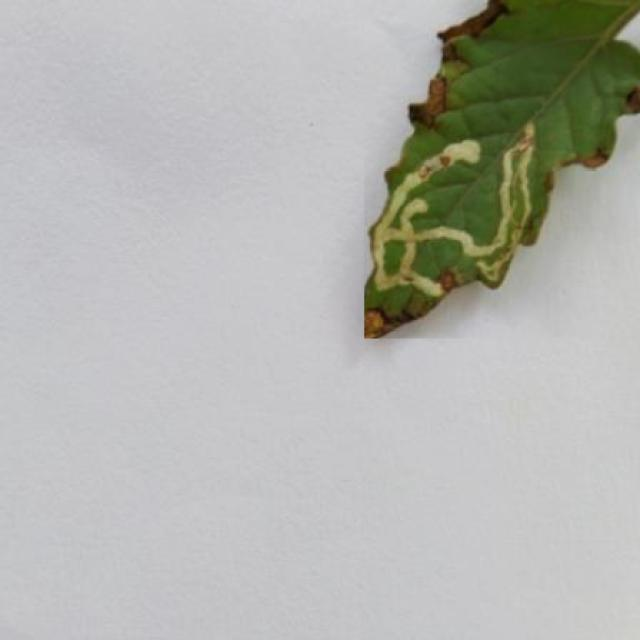Leaf Miner: (364, 0, 640, 339)
